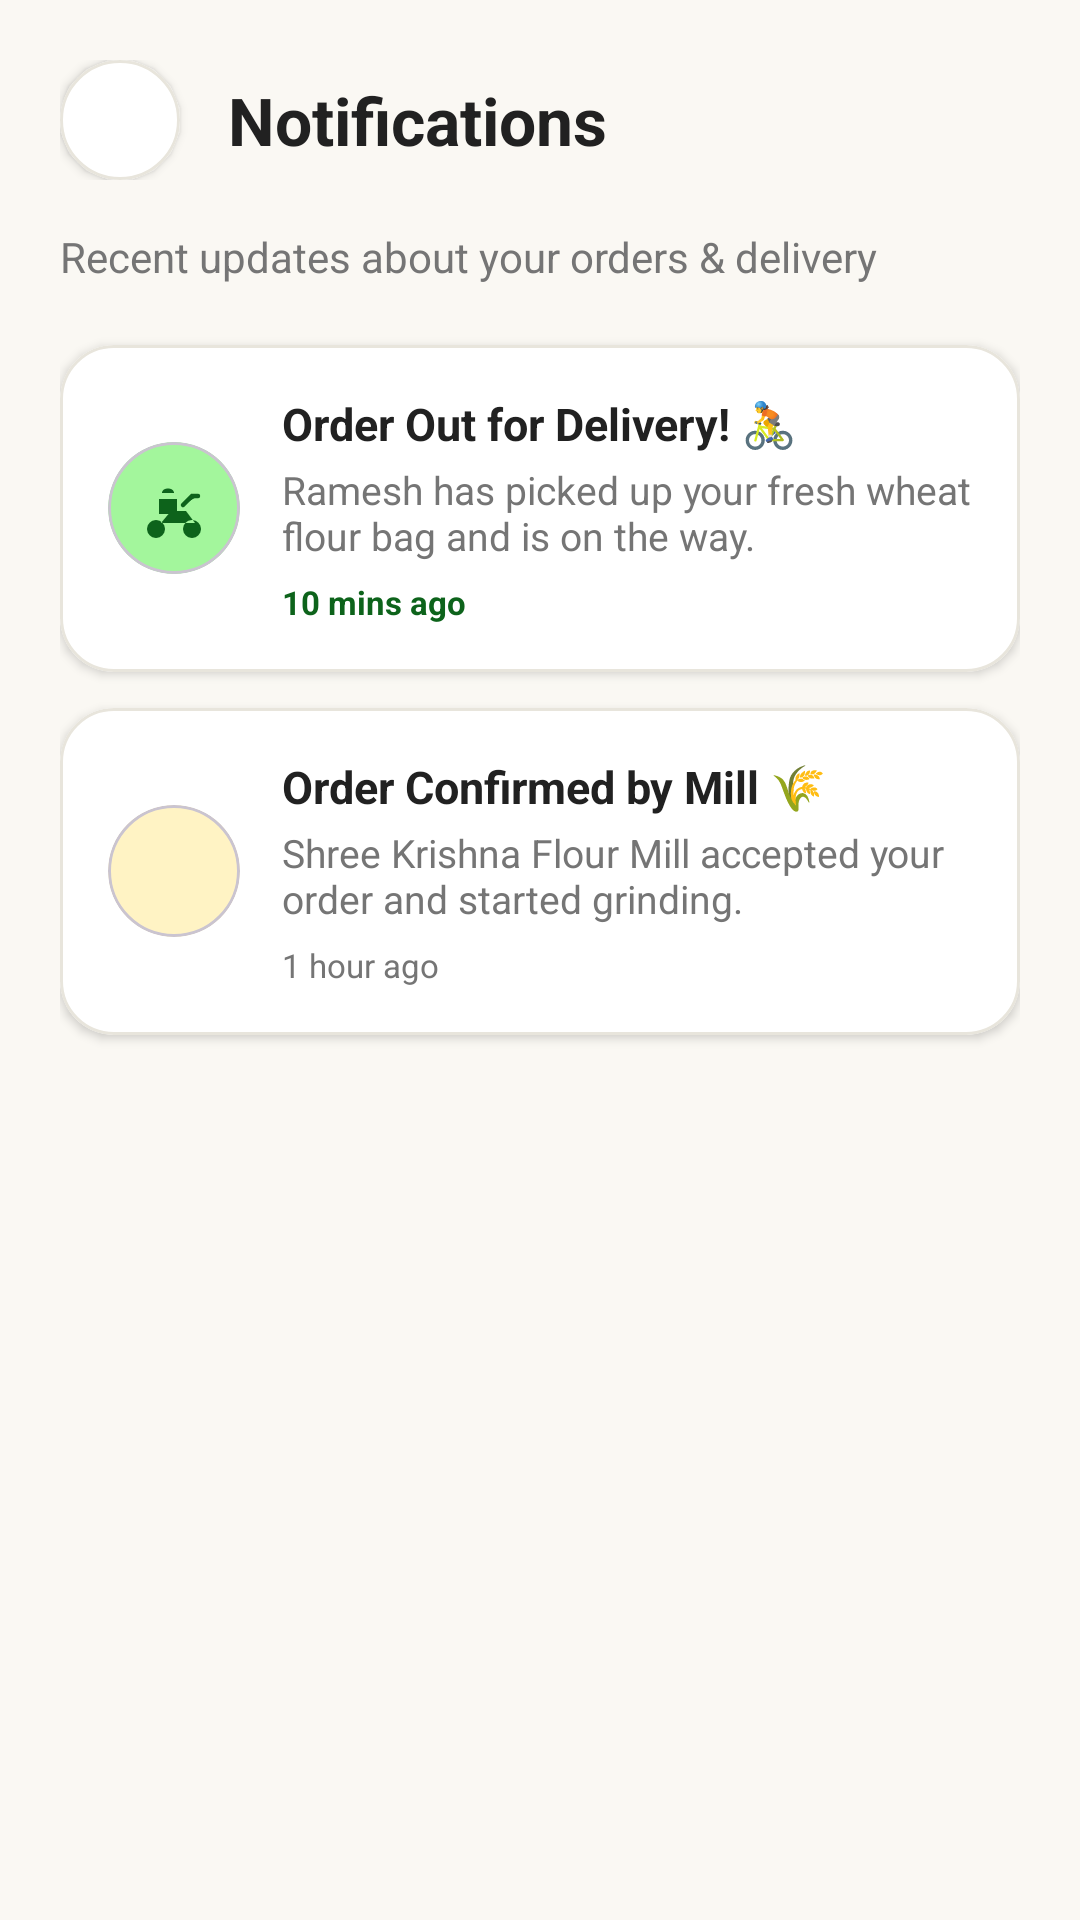

Icon click points for this 1080×1920 phone screenshot, format (x,y):
delivery bike: (174,508)
